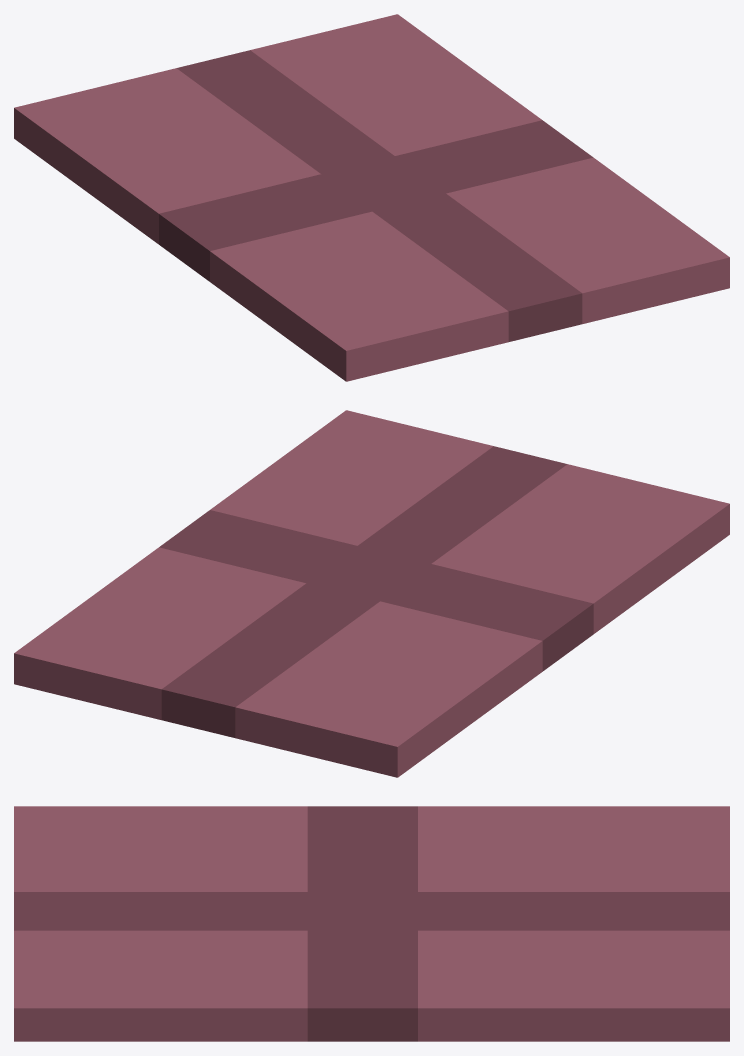
Rendered from alfombra_salon_jarl_01.glb.
3 views of the same model, one above another, from view 1: azimuth 30°, elevation 25°; view 2: azimuth 150°, elevation 25°; view 3: azimuth 270°, elevation 25° (orthographic). The views are drawn at different scales.
Visible parts, largest first — view 1: alfombra_salon_jarl; view 2: alfombra_salon_jarl; view 3: alfombra_salon_jarl.
Boxes of the visible parts, x1,y1,x2,y2 form: alfombra_salon_jarl: [14, 14, 729, 381]; alfombra_salon_jarl: [14, 410, 729, 777]; alfombra_salon_jarl: [14, 806, 729, 1041].
Size of the model in its own units: 2 by 0.1538 by 3.
